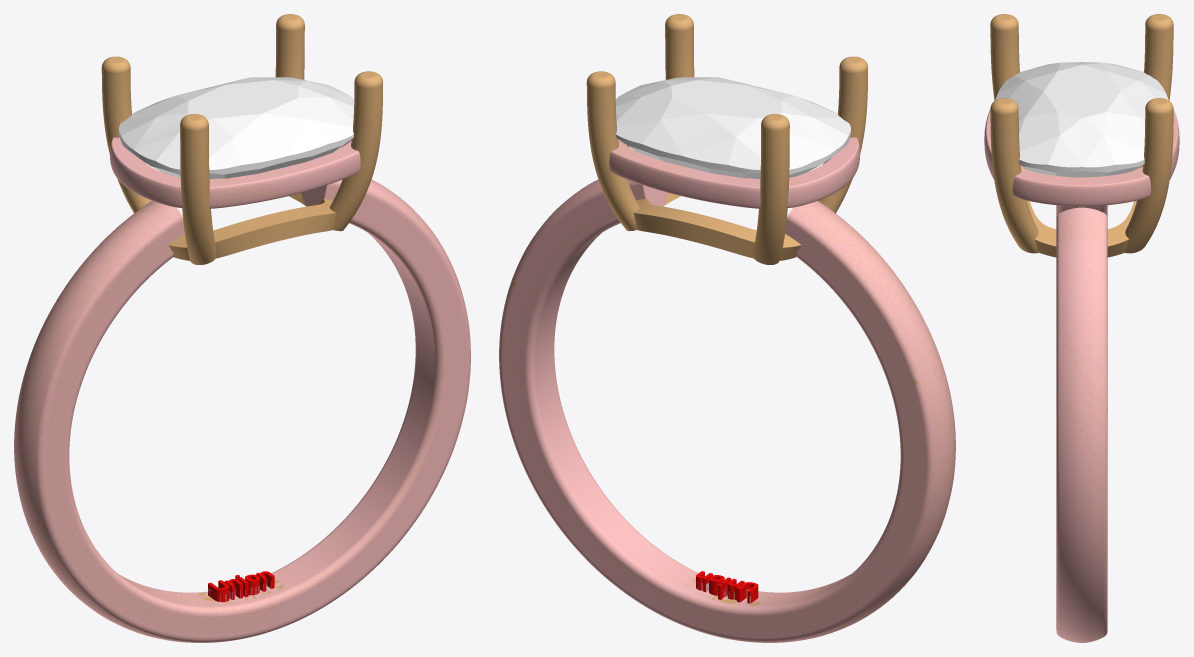
File: lrs-01.glb
3 renders of one model, left to right at view 1: azimuth 30°, elevation 25°; view 2: azimuth 150°, elevation 25°; view 3: azimuth 270°, elevation 25°, orthographic.
Visible parts, largest first — view 1: lrs-013dm, Diamond_Cushion; view 2: lrs-013dm, Diamond_Cushion; view 3: lrs-013dm, Diamond_Cushion.
Boxes of the visible parts, bbox=[...] form: lrs-013dm: bbox=[14, 14, 470, 642]; Diamond_Cushion: bbox=[119, 77, 354, 179]; lrs-013dm: bbox=[499, 14, 955, 642]; Diamond_Cushion: bbox=[615, 77, 850, 179]; lrs-013dm: bbox=[984, 14, 1179, 642]; Diamond_Cushion: bbox=[995, 62, 1168, 177].
Bounding box in the file's own units: 2.47 × 3 × 0.949.
